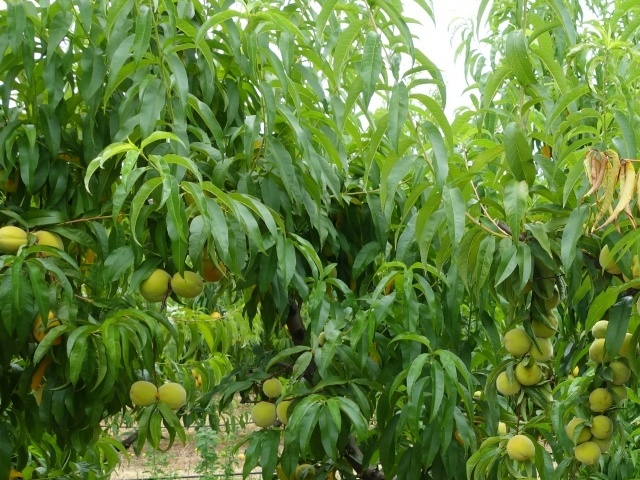peach: (26, 307, 68, 351), (137, 266, 175, 307), (168, 267, 207, 304), (29, 228, 68, 262), (504, 432, 539, 468), (595, 238, 626, 278), (500, 325, 534, 360), (124, 379, 161, 411), (491, 365, 525, 399), (1, 221, 31, 259), (155, 379, 189, 412), (563, 413, 596, 445), (512, 359, 546, 390), (246, 399, 282, 427), (524, 333, 556, 363), (572, 438, 603, 468), (586, 413, 616, 444), (532, 309, 563, 338), (535, 285, 566, 314), (585, 385, 616, 414), (585, 335, 615, 364), (200, 259, 229, 286), (269, 399, 297, 426), (604, 357, 632, 384), (588, 318, 616, 345), (257, 375, 284, 401), (602, 379, 630, 402), (295, 461, 317, 480)
